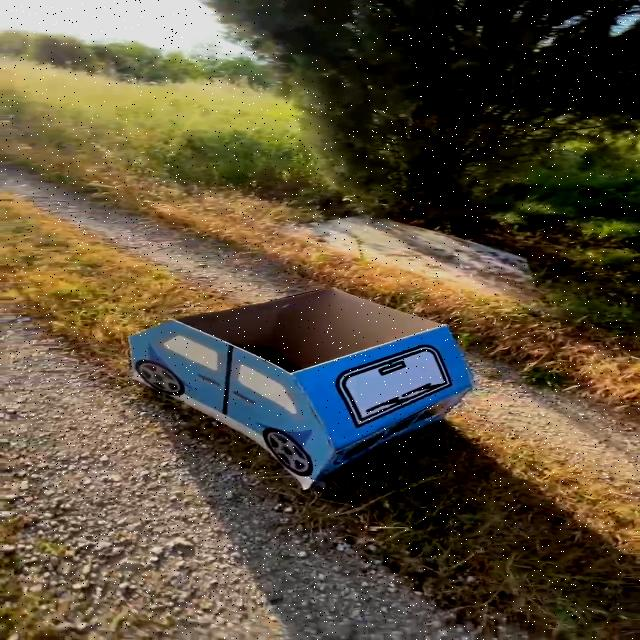blue_car: (61, 261, 523, 507)
